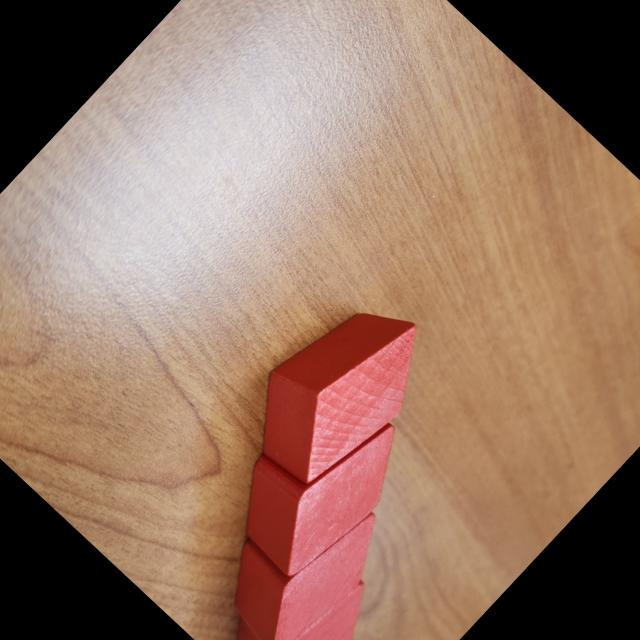red: (225, 272, 452, 503), (212, 371, 426, 589), (202, 463, 402, 640), (209, 536, 387, 640)
